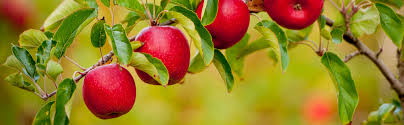apple: (80, 62, 144, 122), (134, 28, 196, 83), (193, 2, 247, 48), (266, 1, 325, 32)
